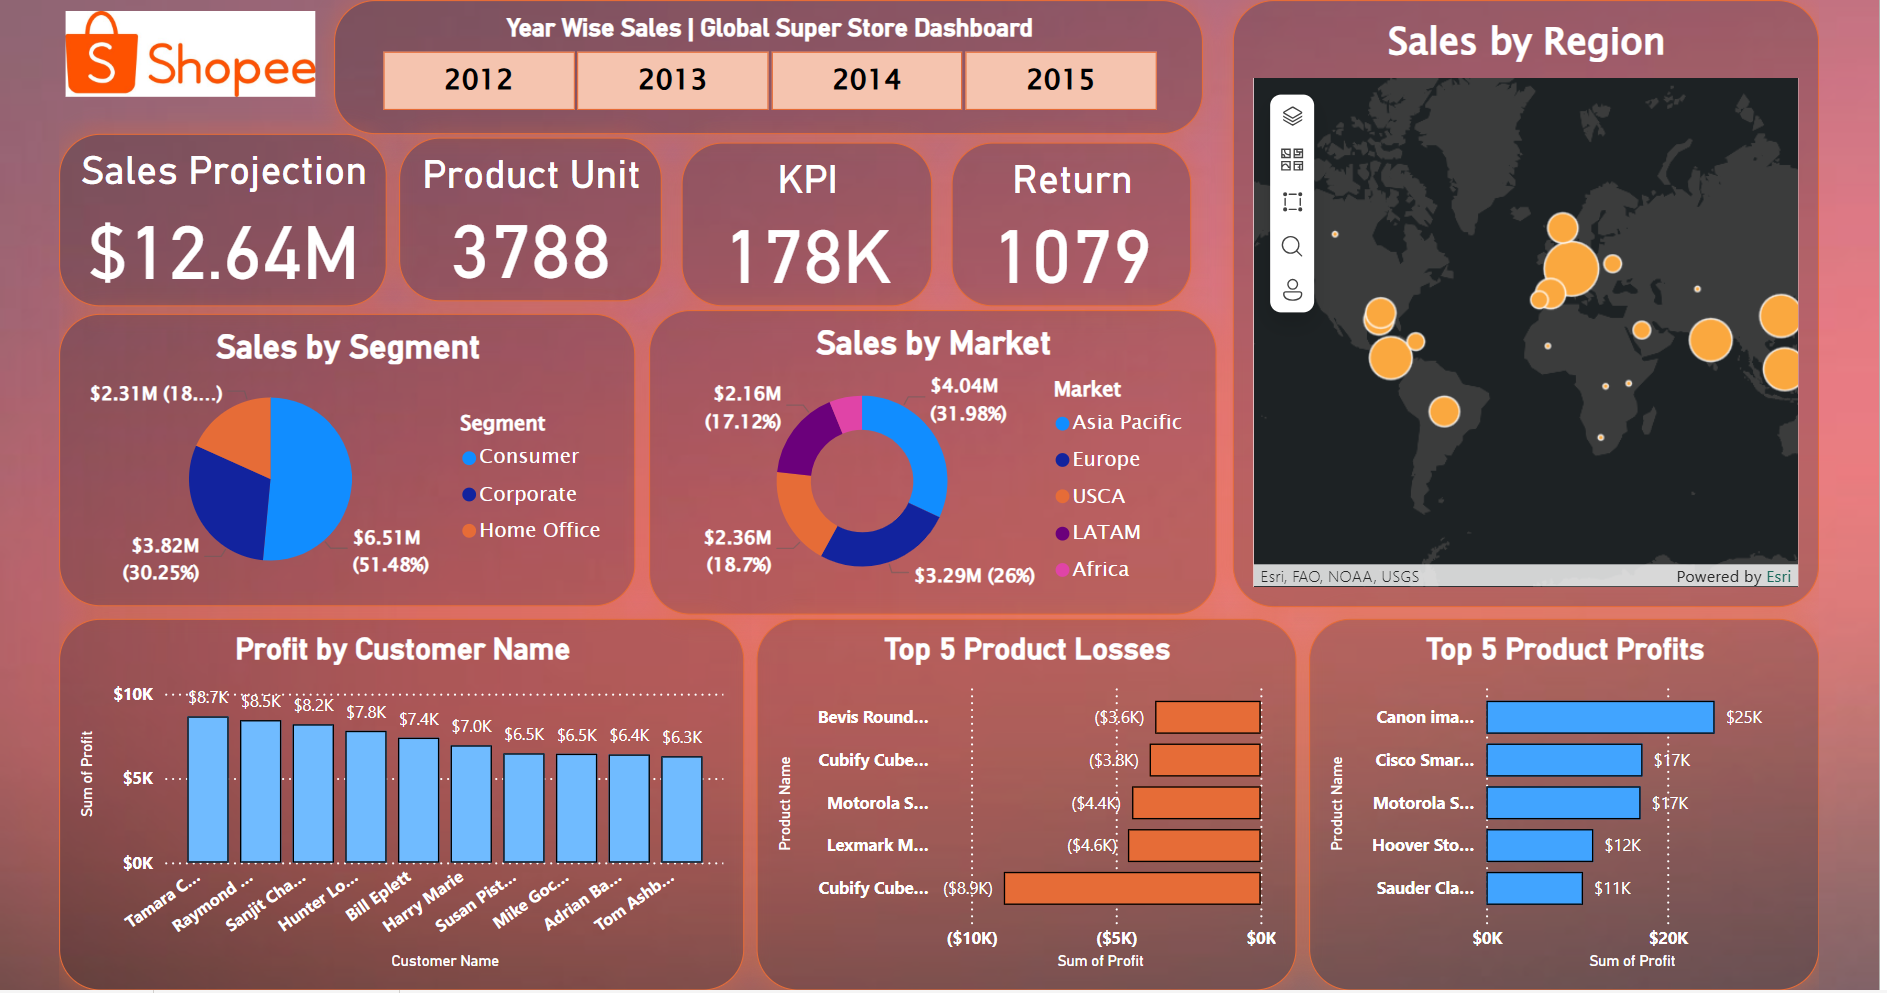

The page's visual inventory and layout, read from the dashboard file:
{"tool":"powerbi","page":{"name":"Report 1","canvas":[1280,720],"ordinal":0},"visuals":[{"type":"slicer","title":"Year Wise Sales | Global Super Store Dashboard","fields":{"Values":["Orders.Year"]},"box":[200,0,632.1,97.4],"z":0},{"type":"card","title":"Product Unit","fields":{"Values":["Count(Orders.Product Name)"]},"box":[247.4,100,191,119.2],"z":1000},{"type":"card","title":"Sales Projection","fields":{"Values":["Sum(Orders.Sales)"]},"box":[0,97.4,238.5,125.6],"z":2000},{"type":"card","title":"KPI","fields":{"Values":["Sum(Orders.Quantity)"]},"box":[452.6,103.8,182.1,119.2],"z":3000},{"type":"card","title":"Return","fields":{"Values":["CountNonNull(Returns.Return 1)"]},"box":[648.7,103.8,174.4,119.2],"z":4000},{"type":"image","box":[0,0,191,78.2],"z":5000},{"type":"pieChart","title":"Sales by Segment","fields":{"Category":["Orders.Segment"],"Y":["Sum(Orders.Sales)"]},"box":[0,228.2,419.2,212.8],"z":6000},{"type":"donutChart","title":"Sales by Market","fields":{"Y":["Sum(Orders.Sales)"],"Category":["Orders.Market"]},"box":[428.8,225,412.5,221.2],"z":7000},{"type":"columnChart","title":"Profit by Customer Name","fields":{"Y":["Sum(Orders.Profit)"],"Category":["Orders.Customer Name"]},"box":[0,450,498.8,270],"z":9000},{"type":"clusteredBarChart","title":"Top 5 Product Profits","fields":{"Y":["Sum(Orders.Profit)"],"Category":["Orders.Product Name"]},"box":[908.8,450,371.2,270],"z":10000},{"type":"clusteredBarChart","title":"Top 5 Product Losses","fields":{"Y":["Sum(Orders.Profit)"],"Category":["Orders.Product Name"]},"box":[507.5,450,392.5,270],"z":11000},{"type":"esriVisual","title":"Sales by Region","fields":{"Location":["Orders.Region"],"Size":["Sum(Orders.Sales)"]},"box":[853.8,0,426.2,441.2],"z":11001}]}

Visuals, with their boxes on the page's 1280x720 design canvas (x1, y1, x2, y2). These are canvas units, not pixel positions in the 1887x993 screenshot, which may show the page scaled, cropped or inside an application window:
"Year Wise Sales | Global Super Store Dashboard" slicer: [200,0,832,97]
"Product Unit" card: [247,100,438,219]
"Sales Projection" card: [0,97,238,223]
"KPI" card: [453,104,635,223]
"Return" card: [649,104,823,223]
image: [0,0,191,78]
"Sales by Segment" pieChart: [0,228,419,441]
"Sales by Market" donutChart: [429,225,841,446]
"Profit by Customer Name" columnChart: [0,450,499,720]
"Top 5 Product Profits" clusteredBarChart: [909,450,1280,720]
"Top 5 Product Losses" clusteredBarChart: [508,450,900,720]
"Sales by Region" esriVisual: [854,0,1280,441]
